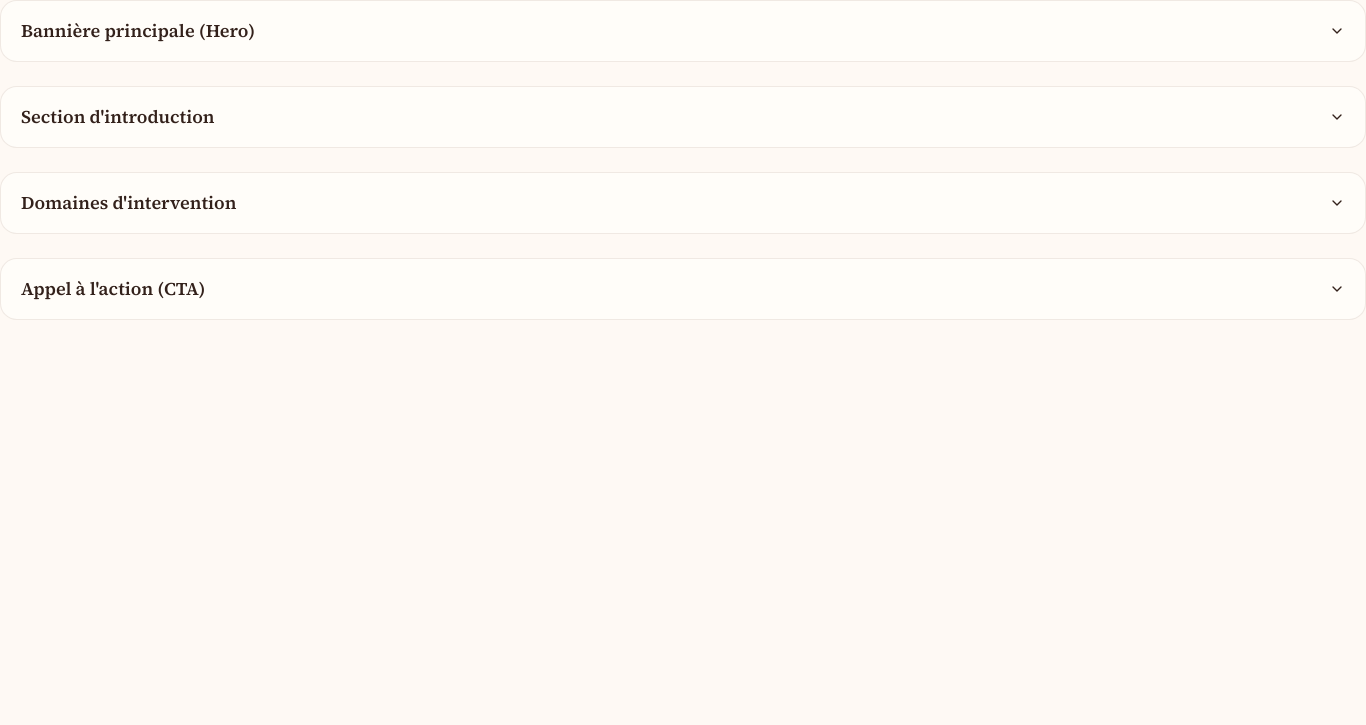
Test: HomeContentForm › adds and removes a focus area
Click the button "Domaines d'intervention".
click(129, 202)  # box [1,173,1365,233]
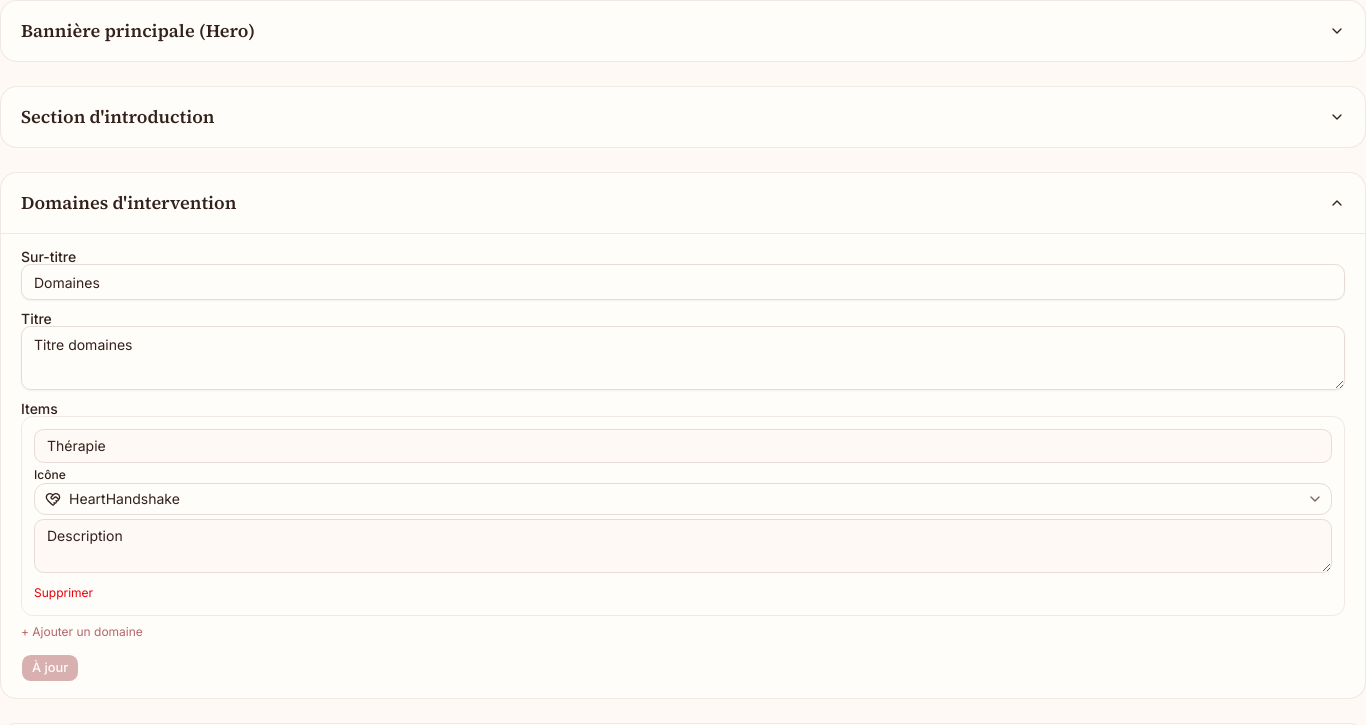
Result: the field with placeholder "Titre" below "Items" holds "Thérapie" at [34,429,1332,463]
Click the button "+ Ajouter un domaine".
click(82, 632)  # box [21,624,143,640]
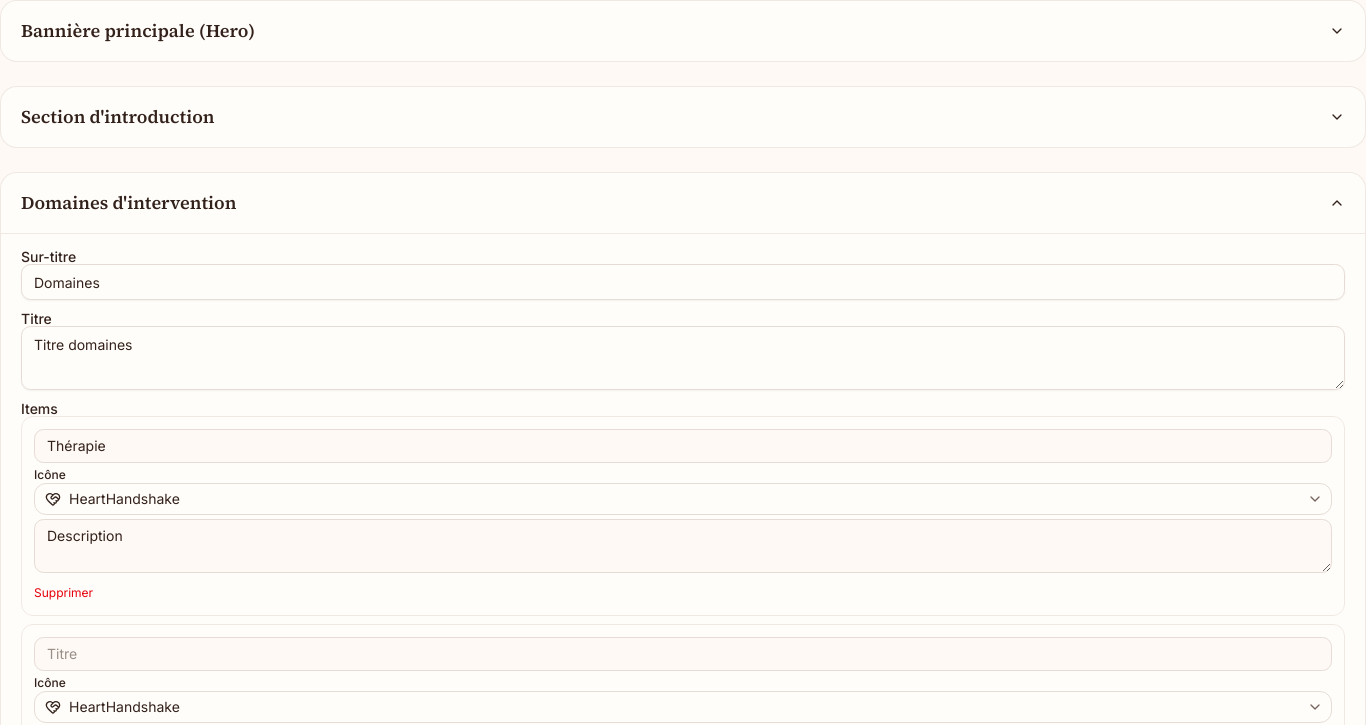
Result: the number of fields with placeholder "Titre" is 2 at [34,429,1332,463]; [34,637,1332,671]
Click the button "Supprimer".
click(64, 593)  # box [34,585,93,601]
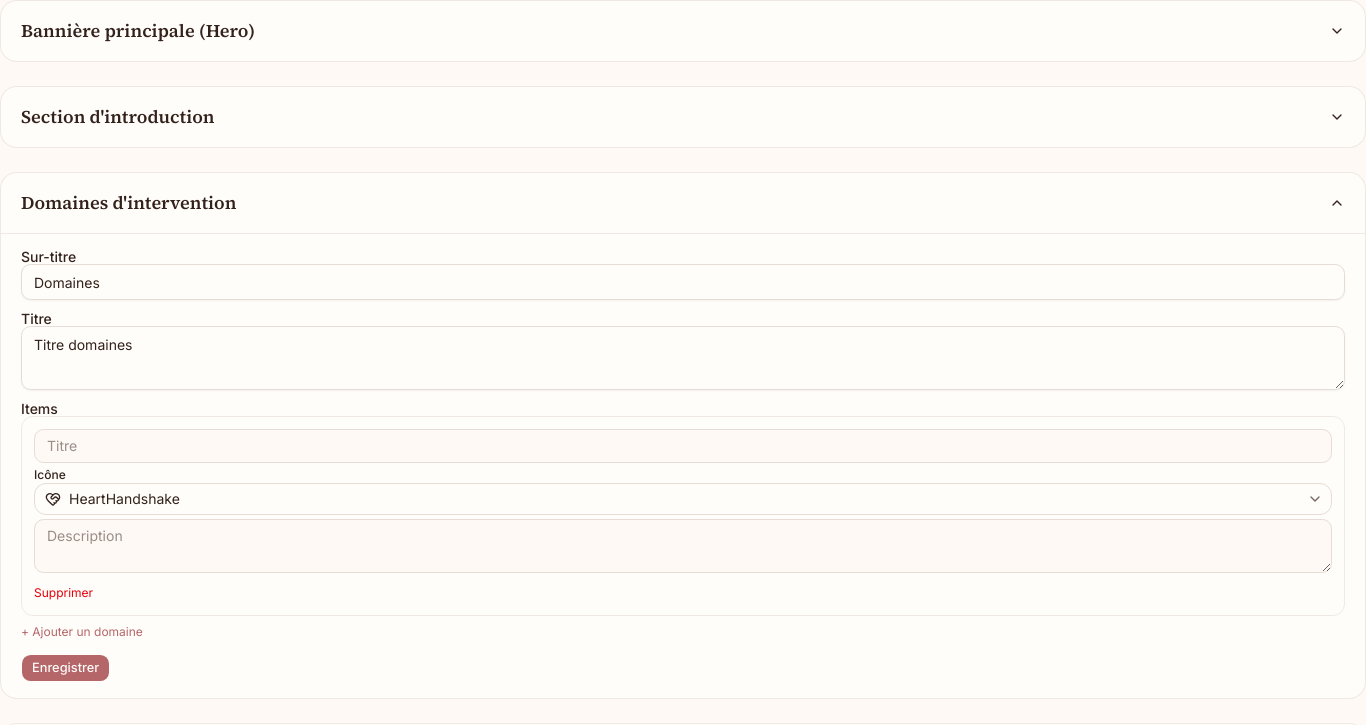
Result: the number of fields with placeholder "Titre" is 1 at [34,429,1332,463]
